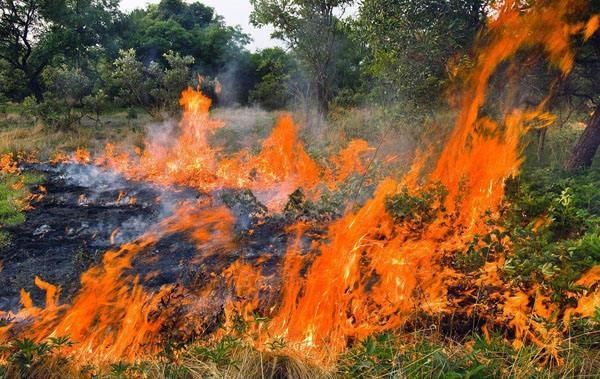fire: (1, 2, 598, 374)
